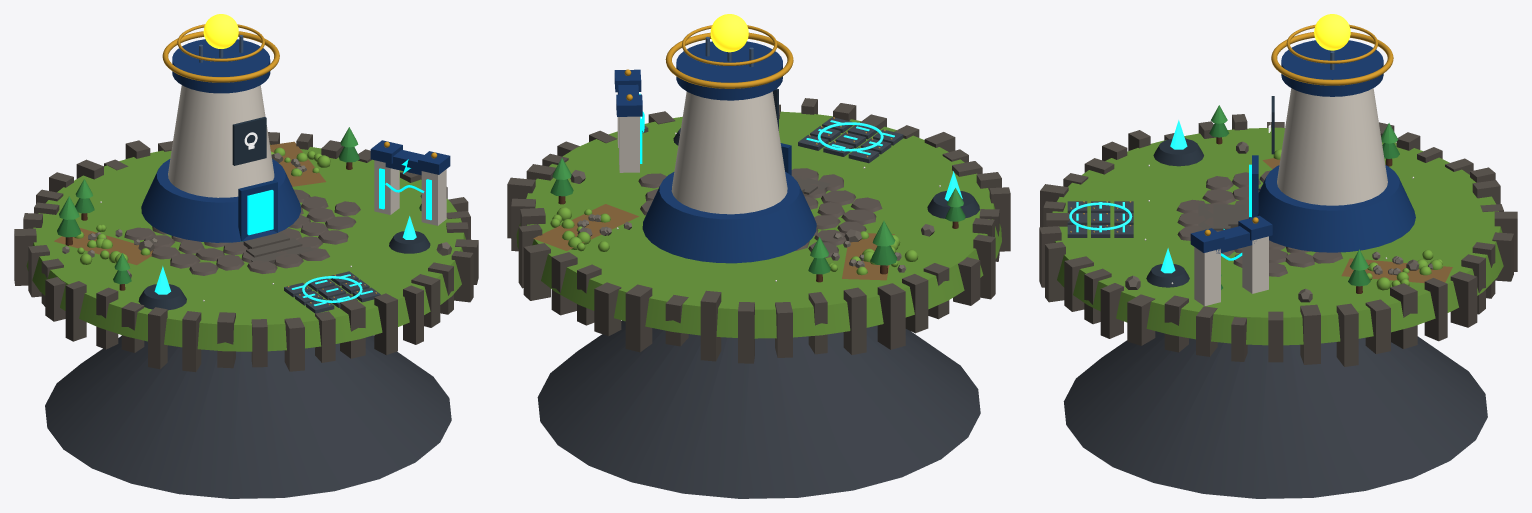
File: island-01-power__static.glb
3 renders of one model, left to right at view 1: azimuth 30°, elevation 25°; view 2: azimuth 150°, elevation 25°; view 3: azimuth 270°, elevation 25°, orthographic. The views are drawn at different scales.
Visible parts, largest first — view 1: I01_BASE, I01_TOWER, I01_STONE_PLAZA, I01_PORTAL, I01_DIRT_GRASS, I01_METAL_PATH, I01_TREES, I01_CRYSTALS; view 2: I01_BASE, I01_TOWER, I01_DIRT_GRASS, I01_STONE_PLAZA, I01_METAL_PATH, I01_PORTAL, I01_TREES, I01_CRYSTALS, I01_ROCKS; view 3: I01_BASE, I01_TOWER, I01_PORTAL, I01_STONE_PLAZA, I01_DIRT_GRASS, I01_METAL_PATH, I01_CRYSTALS, I01_TREES, I01_ROCKS.
Part boxes in pixels (x1=…): I01_BASE: x1=14, y1=132, x2=478, y2=498; I01_TOWER: x1=141, y1=14, x2=313, y2=263; I01_STONE_PLAZA: x1=124, y1=189, x2=360, y2=275; I01_PORTAL: x1=370, y1=140, x2=450, y2=225; I01_DIRT_GRASS: x1=54, y1=141, x2=330, y2=265; I01_METAL_PATH: x1=284, y1=271, x2=380, y2=313; I01_TREES: x1=57, y1=127, x2=421, y2=290; I01_CRYSTALS: x1=138, y1=216, x2=430, y2=310; I01_BASE: x1=507, y1=98, x2=1010, y2=498; I01_TOWER: x1=642, y1=14, x2=830, y2=263; I01_DIRT_GRASS: x1=533, y1=204, x2=918, y2=280; I01_STONE_PLAZA: x1=638, y1=168, x2=882, y2=257; I01_METAL_PATH: x1=798, y1=117, x2=903, y2=163; I01_PORTAL: x1=614, y1=69, x2=644, y2=172; I01_TREES: x1=550, y1=158, x2=965, y2=282; I01_CRYSTALS: x1=673, y1=128, x2=979, y2=218; I01_ROCKS: x1=570, y1=170, x2=934, y2=242; I01_BASE: x1=1039, y1=114, x2=1517, y2=498; I01_TOWER: x1=1198, y1=14, x2=1415, y2=252; I01_PORTAL: x1=1190, y1=215, x2=1272, y2=306; I01_STONE_PLAZA: x1=1176, y1=170, x2=1342, y2=276; I01_DIRT_GRASS: x1=1262, y1=149, x2=1452, y2=290; I01_METAL_PATH: x1=1067, y1=201, x2=1133, y2=237; I01_CRYSTALS: x1=1146, y1=120, x2=1203, y2=287; I01_TREES: x1=1209, y1=105, x2=1399, y2=293; I01_ROCKS: x1=1125, y1=141, x2=1419, y2=302.
Bounding box in the file's own units: 8.92 × 8.06 × 8.88.
